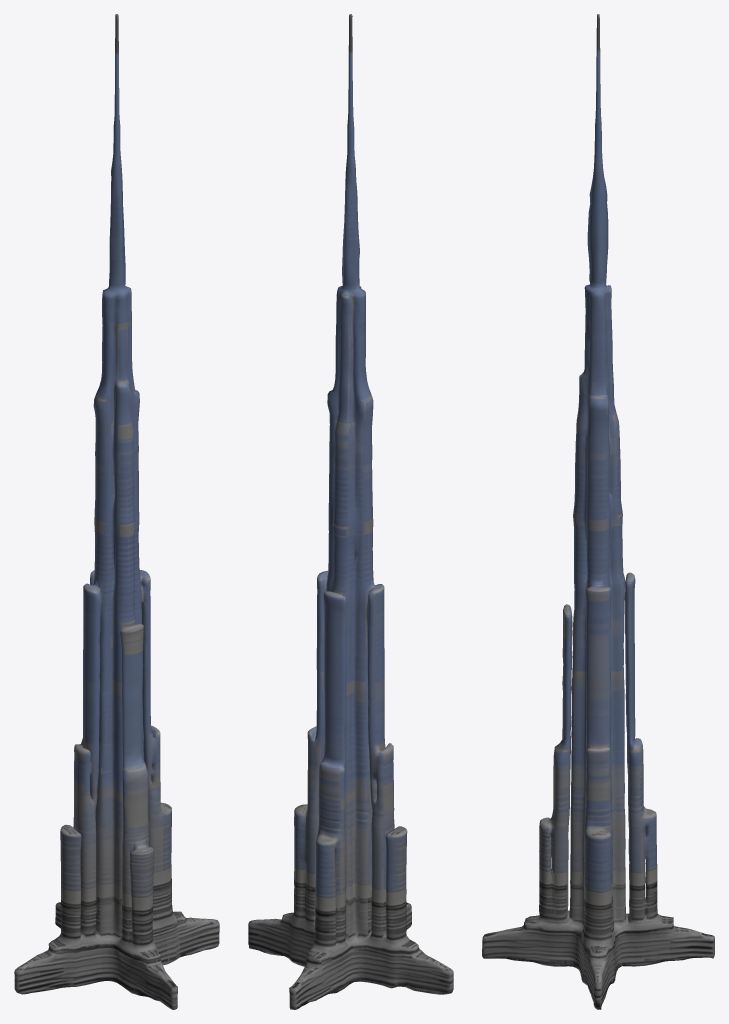
File: burj.fbx
The picture shows the model from 3 angles, left to right: view 1: azimuth 30°, elevation 25°; view 2: azimuth 150°, elevation 25°; view 3: azimuth 270°, elevation 25°; orthographic projection.
Parts seen in each view (by area): view 1: tripo_node_75d6dcac; view 2: tripo_node_75d6dcac; view 3: tripo_node_75d6dcac.
Part boxes in pixels (x1,y1,x2,y2): tripo_node_75d6dcac: [14, 14, 219, 1009]; tripo_node_75d6dcac: [248, 14, 453, 1009]; tripo_node_75d6dcac: [482, 14, 714, 1009].
Size of the model in its own units: 0.2231 by 0.9994 by 0.2227.
1 material, 1 textured.
